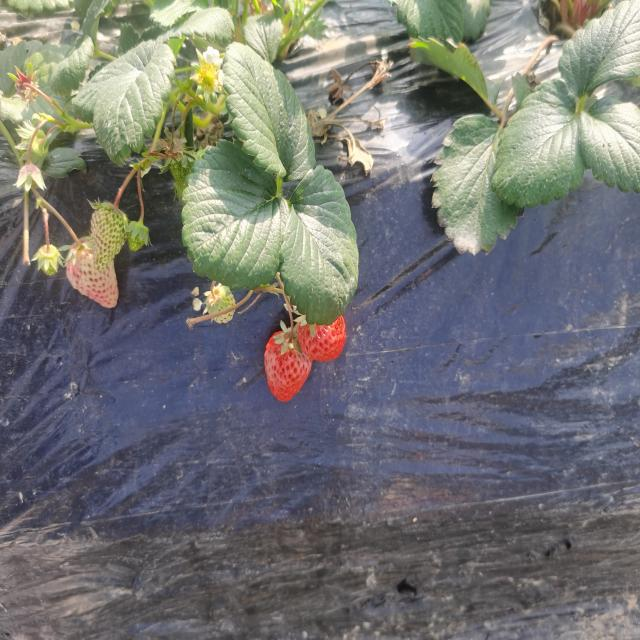stem: (288, 308, 293, 344)
strawberry: (264, 330, 312, 402), (297, 315, 346, 361)
